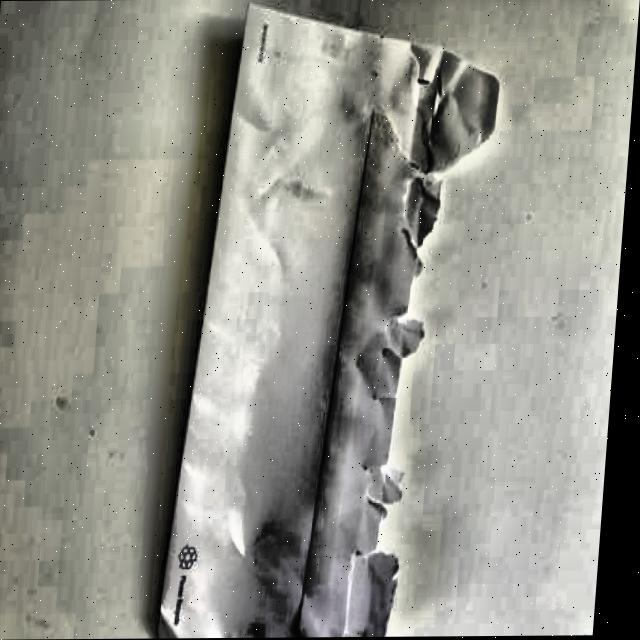paper: (152, 0, 510, 639)
